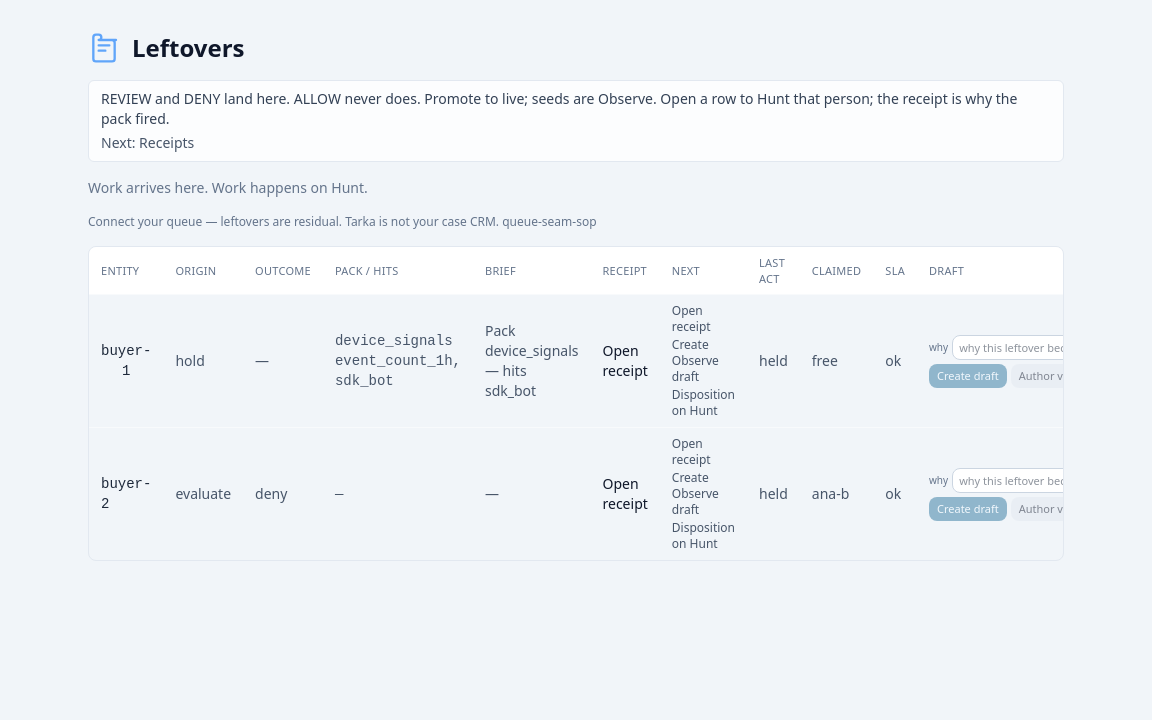
Scenario: Leftovers › shows leftover Create-draft why on the leftover after save
Step 1. Type "human leftover why" into the field with test id "leftover-override-why" in the row of "hold" → (1040, 348), box 952,335 -> 1128,360
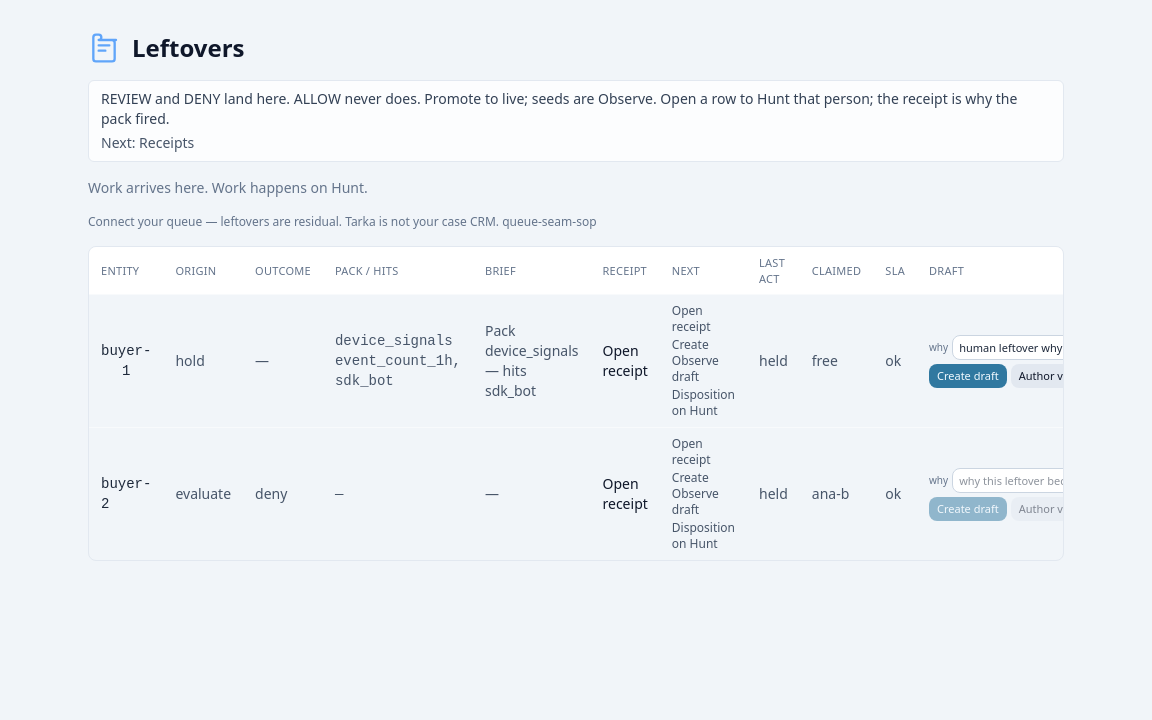
Step 2. Click the button "Create draft" in the row of "hold" → (968, 376), box 929,364 -> 1007,388
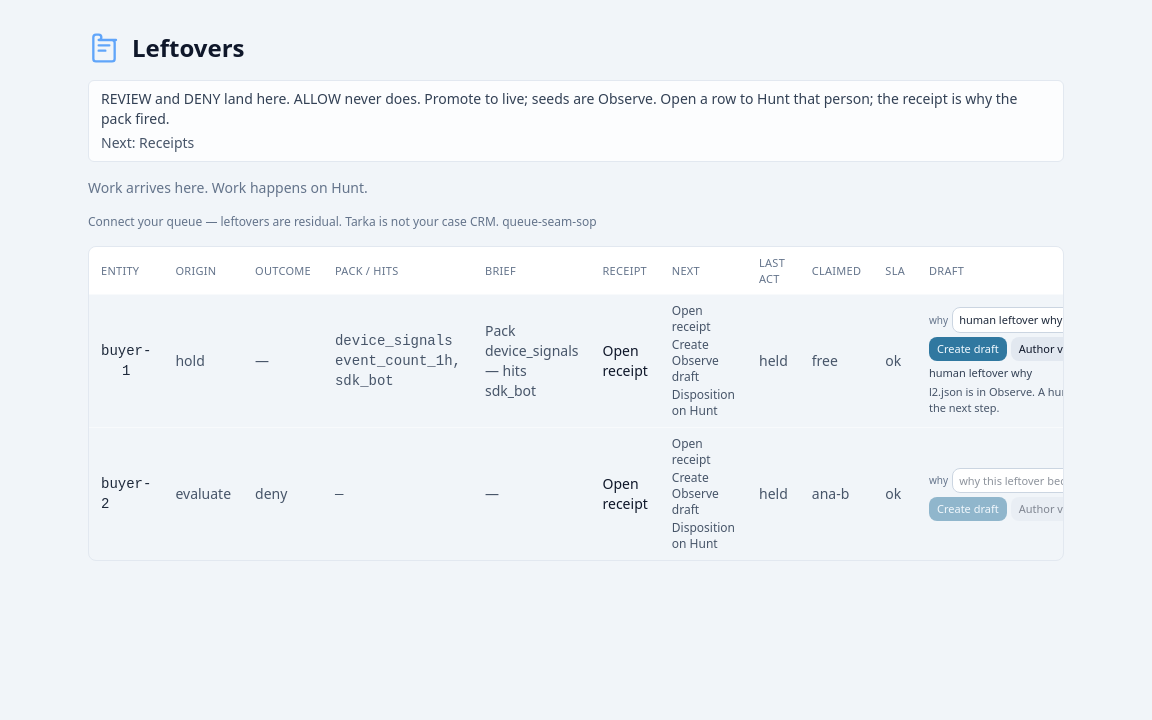
Expected: the text with test id "leftover-saved-why" reads "human leftover why", 929,364 -> 1032,380
